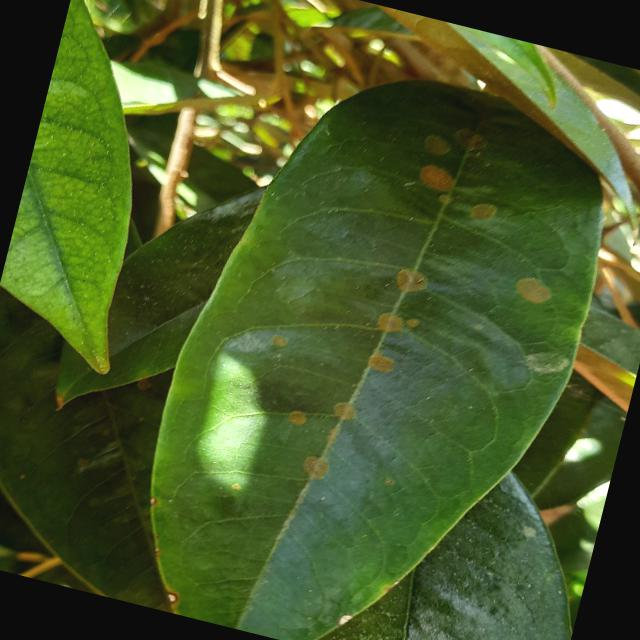Algal Leaf Spot: (105, 22, 639, 639)
